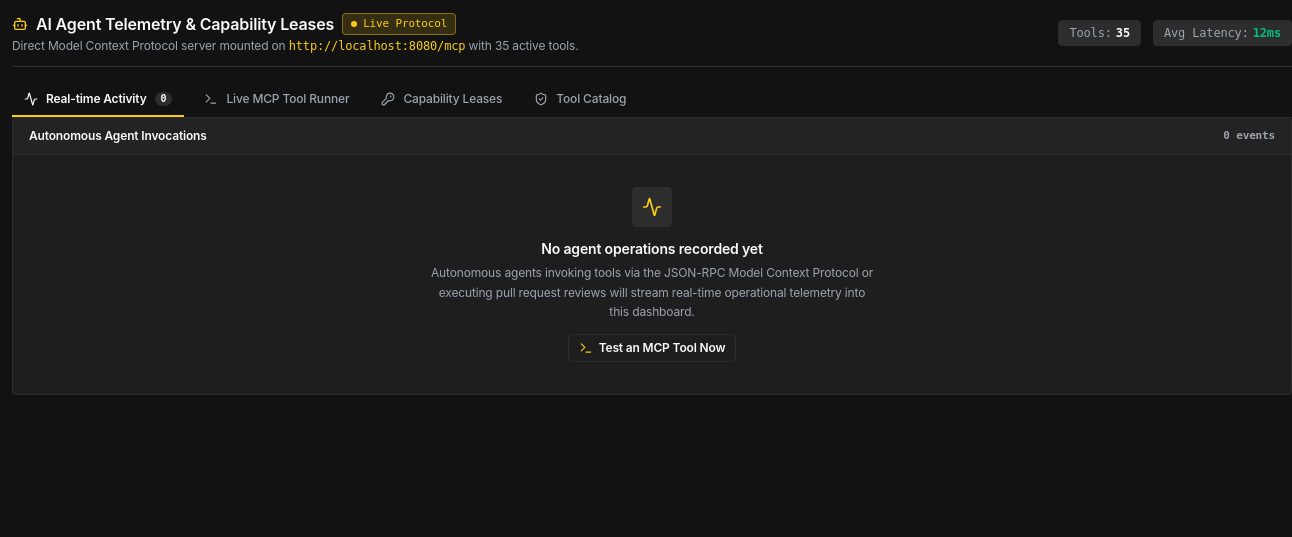
Test case: AgentConsoleView Component › switches to Capability Leases tab and generates a lease token
Click the button "Capability Leases" at (442, 100), box [369,83,514,117]
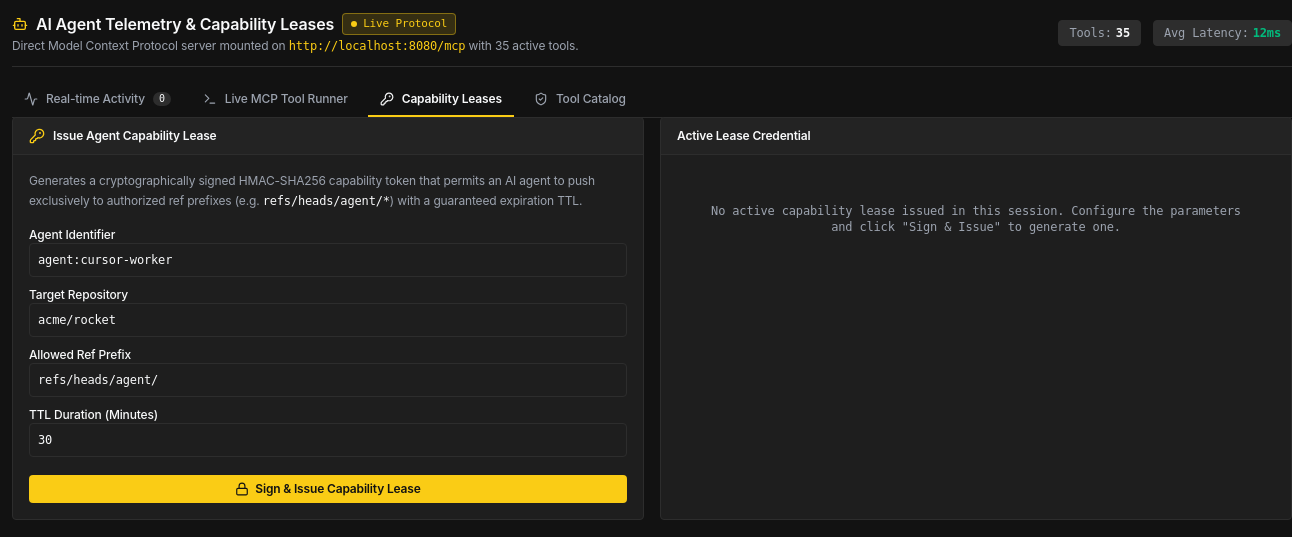
Expected: the text "Issue Agent Capability Lease" is shown, [53,128,216,144]
Click the button "Sign & Issue Capability Lease" at (328, 489), box [29,475,627,503]
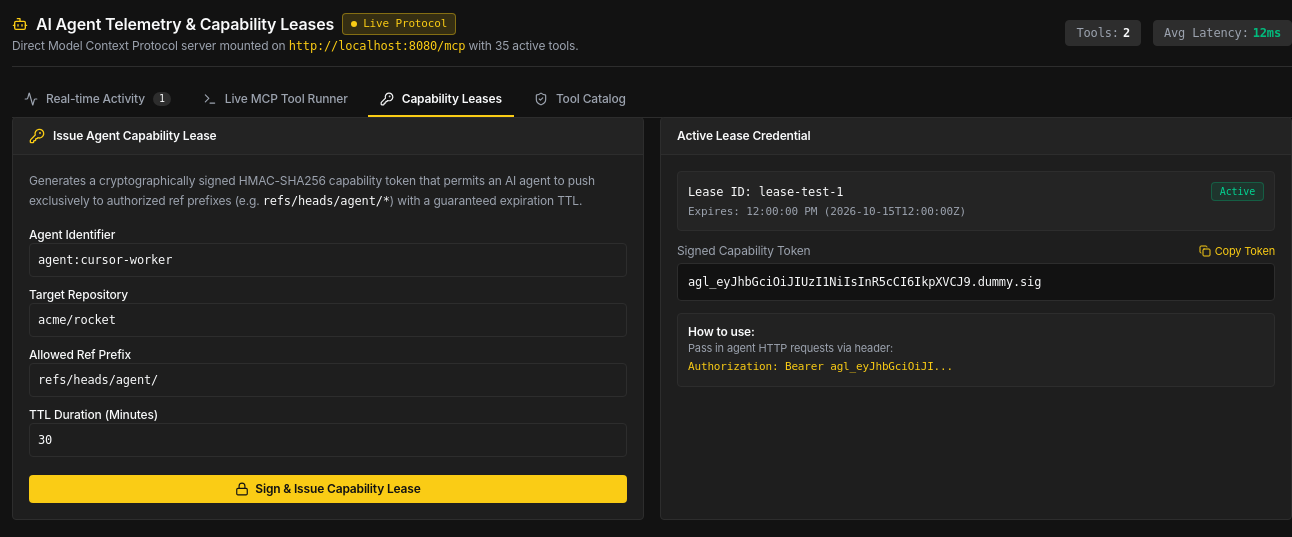
Expected: the text "Active Lease Credential" is shown, [677,128,810,144]
Expected: the text "agl_eyJhbGciOiJIUzI1NiIsInR5cCI6IkpXVCJ9.dummy.sig" is shown, [677,263,1275,301]
